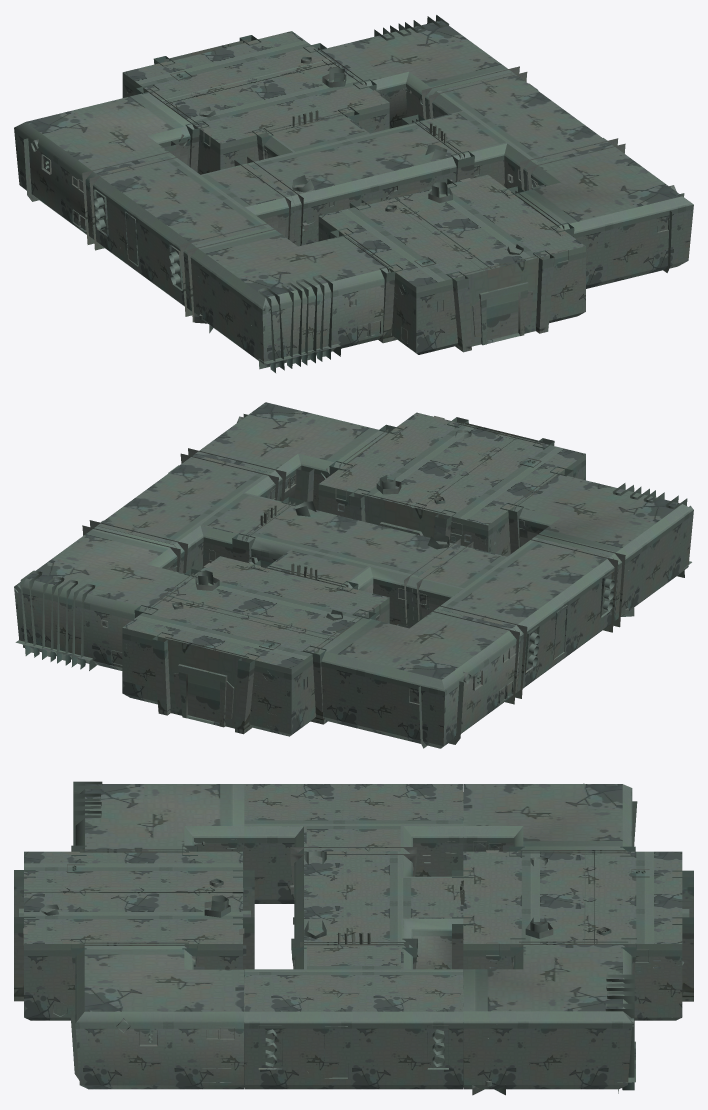
Rendered from Combined_Mesh_root_scene__22_9f3a19a4__zombies2_diffuse_08_b0bdab26_c1f257.obj.
The picture shows the model from 3 angles, top to bottom: view 1: azimuth 30°, elevation 25°; view 2: azimuth 150°, elevation 25°; view 3: azimuth 270°, elevation 25°; orthographic projection. The views are drawn at different scales.
Bounding box in the file's own units: 52.07 × 9.64 × 62.1.
147 materials, 147 textured.
